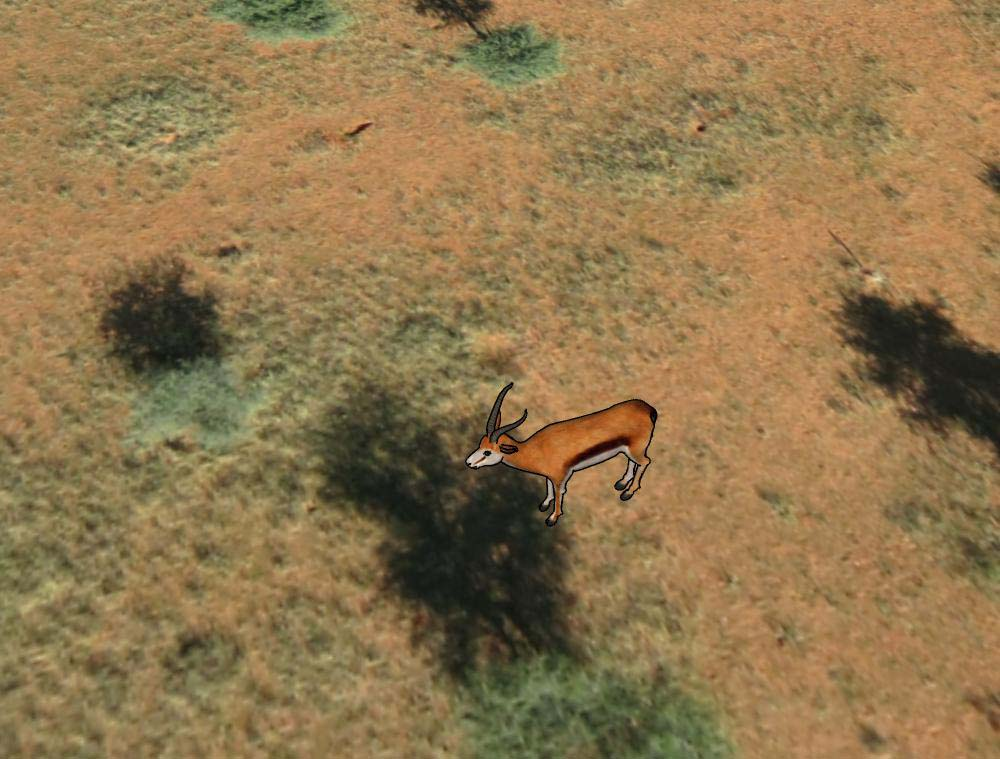springbok: (464, 370, 657, 525)
